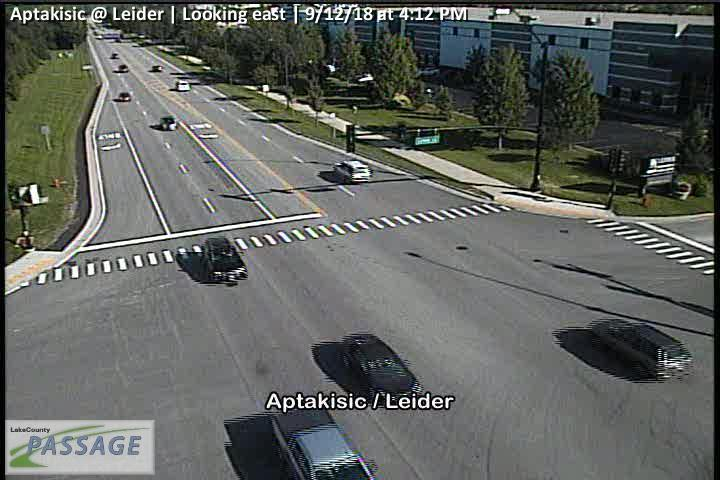SUV: (590, 315, 694, 383), (333, 160, 370, 183)
Sedan: (340, 335, 421, 403), (203, 237, 248, 285), (160, 116, 176, 130), (177, 81, 191, 91), (119, 92, 130, 101), (118, 64, 127, 72), (152, 65, 162, 71), (111, 52, 119, 58)
Truck: (267, 401, 374, 480)
